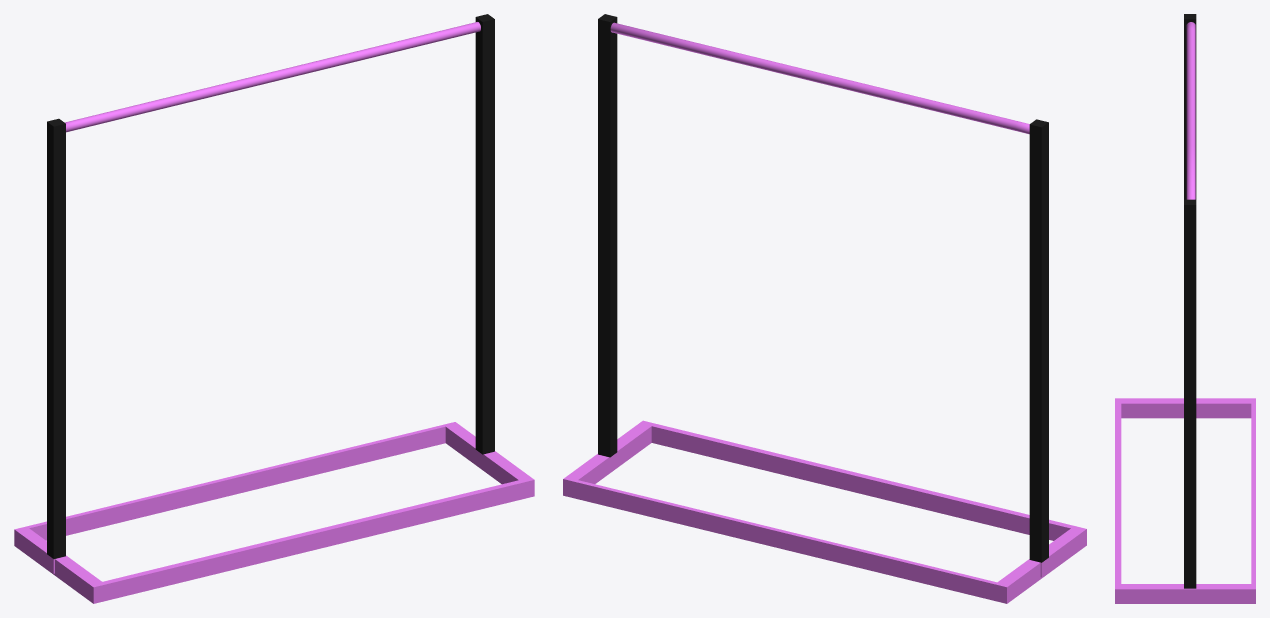
Rendered from shelf_1_empty.fbx.
3 renders of one model, left to right at view 1: azimuth 30°, elevation 25°; view 2: azimuth 150°, elevation 25°; view 3: azimuth 270°, elevation 25°, orthographic. The views are drawn at different scales.
Visible parts, largest first — view 1: Cube.007, Cube.003, Cube.002, Cylinder, Cube.004, Cube.005; view 2: Cube.007, Cube.002, Cube.003, Cylinder, Cube.004, Cube.005; view 3: Cube.003, Cube.005, Cube.004, Cube.007, Cylinder, Cube.002.
Boxes of the visible parts, left/top/right/bottom form: Cube.007: left=27, top=423, right=530, bottom=600; Cube.003: left=475, top=14, right=494, bottom=454; Cube.002: left=47, top=118, right=65, bottom=573; Cylinder: left=65, top=22, right=480, bottom=132; Cube.004: left=14, top=526, right=105, bottom=603; Cube.005: left=444, top=422, right=534, bottom=499; Cube.007: left=570, top=422, right=1073, bottom=600; Cube.002: left=1029, top=119, right=1048, bottom=577; Cube.003: left=598, top=14, right=617, bottom=457; Cylinder: left=610, top=22, right=1029, bottom=134; Cube.004: left=994, top=526, right=1086, bottom=603; Cube.005: left=563, top=420, right=654, bottom=498; Cube.003: left=1184, top=199, right=1196, bottom=588; Cube.005: left=1115, top=584, right=1255, bottom=603; Cube.004: left=1115, top=398, right=1255, bottom=418; Cube.007: left=1115, top=403, right=1255, bottom=583; Cylinder: left=1186, top=22, right=1195, bottom=199; Cube.002: left=1184, top=14, right=1196, bottom=199.
Bounding box in the file's own units: 4.26 × 4.14 × 1.32.
